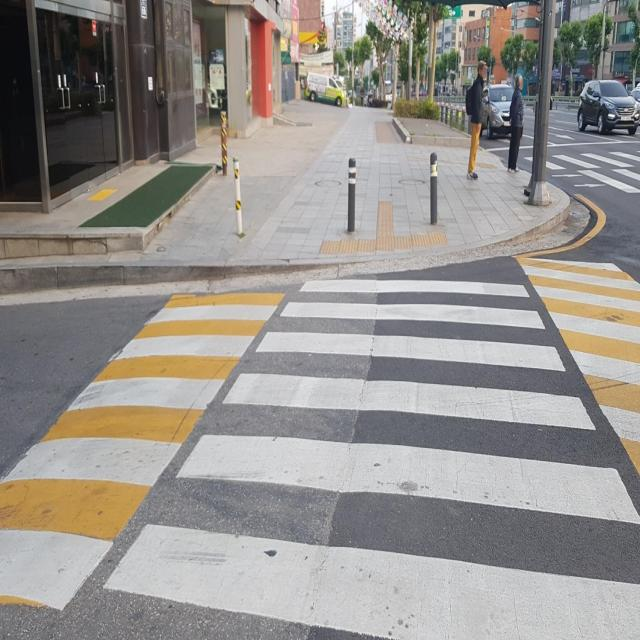횡단보도: (103, 280, 640, 639), (526, 152, 640, 196)
